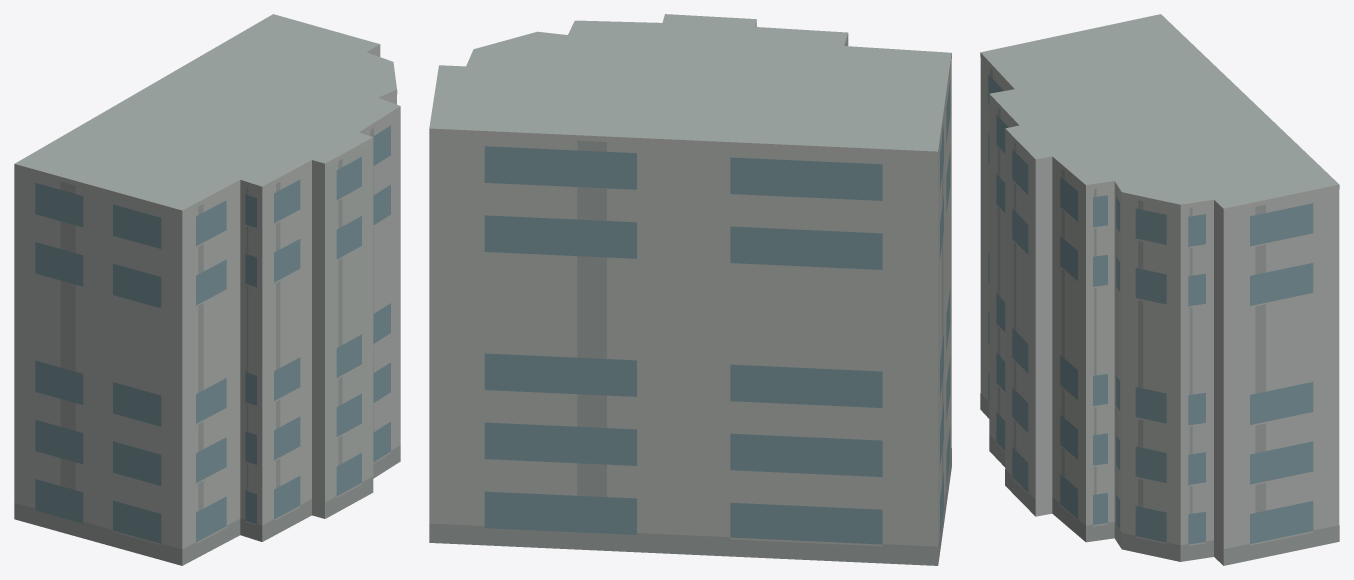
The model's file is survey-upis-32797884.glb.
3 views of the same model, side by side, from view 1: azimuth 30°, elevation 25°; view 2: azimuth 150°, elevation 25°; view 3: azimuth 270°, elevation 25° (orthographic). The views are drawn at different scales.
Visible parts, largest first — view 1: survey-upis-32797884.tmp; view 2: survey-upis-32797884.tmp; view 3: survey-upis-32797884.tmp.
Part boxes in pixels (<box>): survey-upis-32797884.tmp: <box>14,14,400,565</box>; survey-upis-32797884.tmp: <box>429,14,951,565</box>; survey-upis-32797884.tmp: <box>980,14,1339,565</box>.
Bounding box in the file's own units: 21.4 × 18.3 × 16.68.
